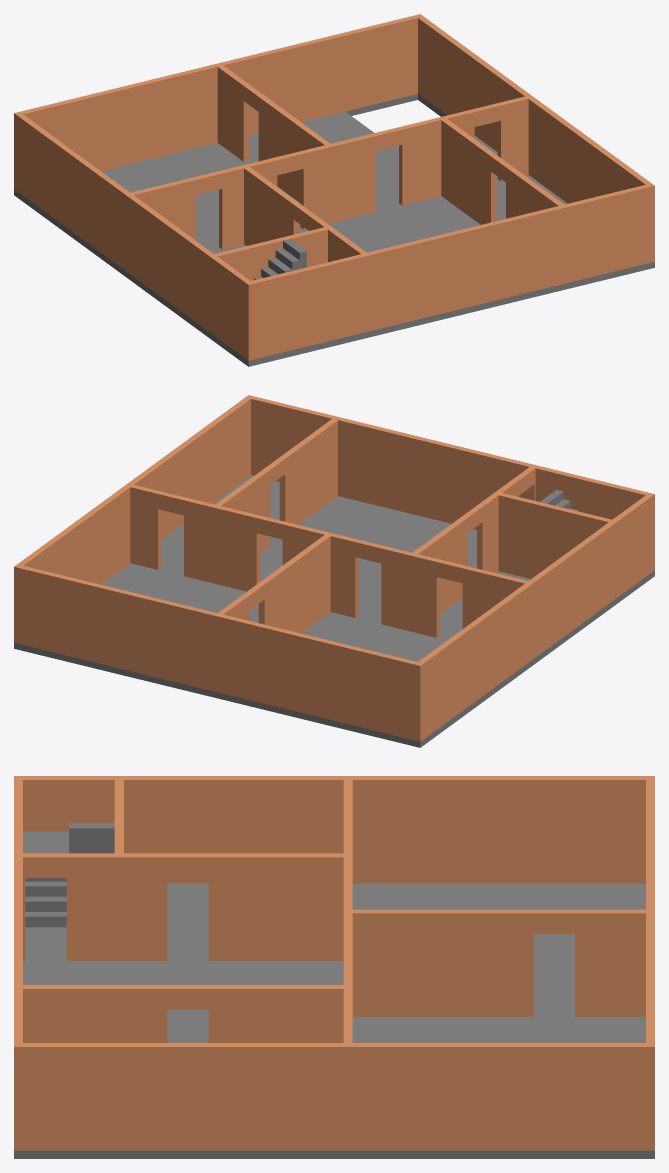
File: SM_Level_1.fbx
3 renders of one model, top to bottom at view 1: azimuth 30°, elevation 25°; view 2: azimuth 150°, elevation 25°; view 3: azimuth 270°, elevation 25°, orthographic. The views are drawn at different scales.
Visible parts, largest first — view 1: SM_Level_1; view 2: SM_Level_1; view 3: SM_Level_1.
Boxes of the visible parts, left/top/right/bottom form: SM_Level_1: left=14, top=14, right=654, bottom=366; SM_Level_1: left=14, top=395, right=654, bottom=747; SM_Level_1: left=14, top=776, right=654, bottom=1158.
Size of the model in its own units: 14 by 14 by 2.7.
